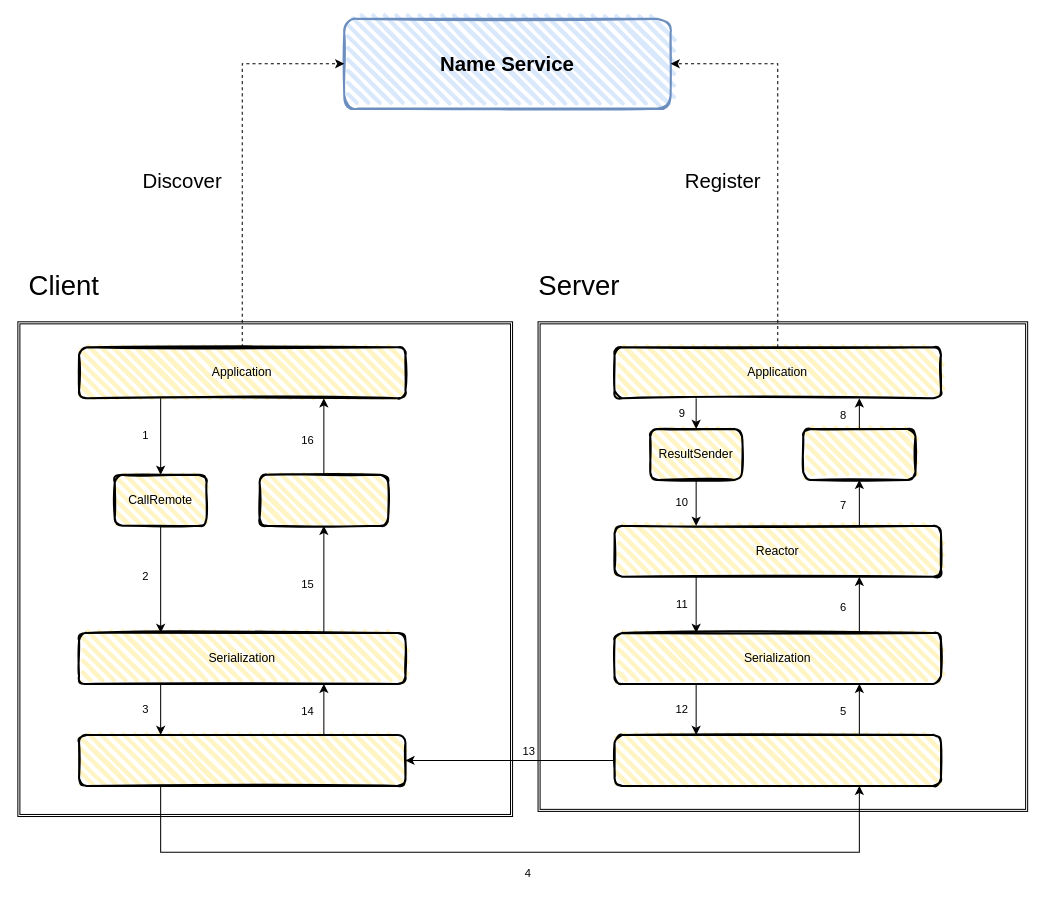
The diagram is 1046 pixels wide and 897 high, and some of its shapes have lost their labels. The centre of each missing label's shape, as x and y in pixels:
"CallbacksHandler" goes at point 323,499.
"ClientTransport" goes at point 242,759.
"RequestHandler" goes at point 859,453.
"ServerTransport" goes at point 777,759.
